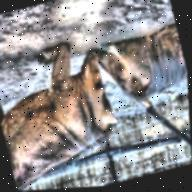boar: (0, 25, 124, 192), (91, 15, 189, 122)
